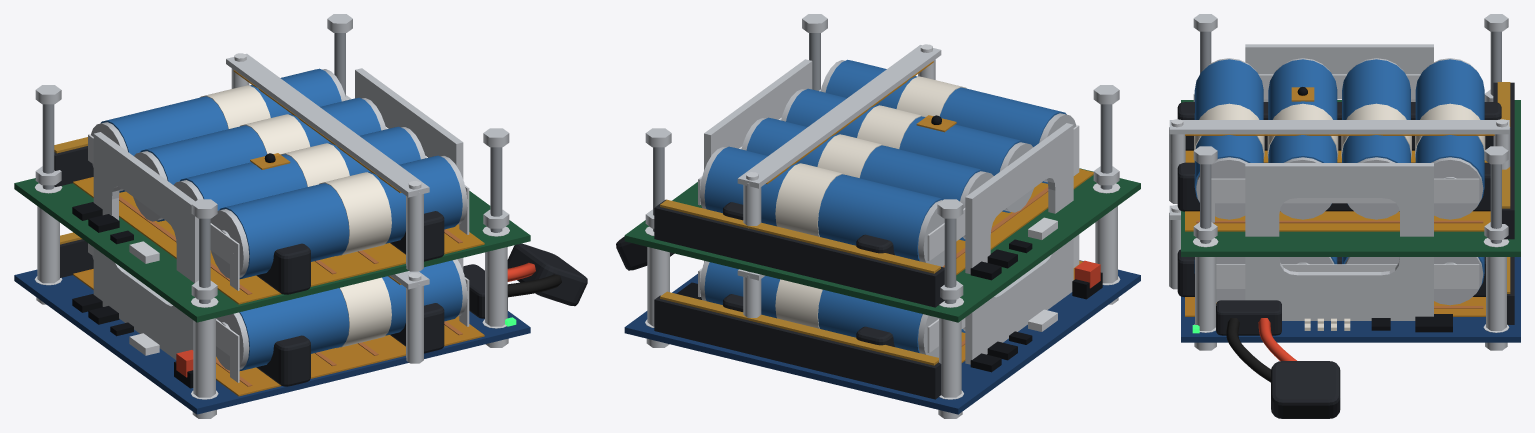
File: battery-large.glb
3 views of the same model, side by side, from view 1: azimuth 30°, elevation 25°; view 2: azimuth 150°, elevation 25°; view 3: azimuth 270°, elevation 25° (orthographic). The views are drawn at different scales.
Visible parts, largest first — view 1: battery-large-cells-2-cells, battery-large-cheek (×2), battery-large-deck-2-pcb, battery-large-deck-1-pcb, battery-large-cells-2-cell-bands, battery-large-cells-1-cells, battery-large-cells-2-heater, battery-large-standoffs-1, battery-large-strap-2, battery-large-cells-1-heater, battery-large-cells-2-cell-caps, battery-large-rods (+17 smaller); view 2: battery-large-cells-2-cells, battery-large-cheek (×2), battery-large-deck-2-header, battery-large-deck-1-header, battery-large-deck-2-pcb, battery-large-deck-1-pcb, battery-large-cells-2-cell-bands, battery-large-cells-1-cells, battery-large-strap-2, battery-large-standoffs-1, battery-large-cells-2-cell-caps, battery-large-rods (+15 smaller); view 3: battery-large-cheek (×2), battery-large-cells-2-cells, battery-large-deck-2-pcb, battery-large-deck-1-pcb, battery-large-strap-2, battery-large-cells-2-cell-caps, battery-large-plug, battery-large-cells-2-heater, battery-large-cells-2-cell-bands, battery-large-cells-2-nickel (×2), battery-large-standoffs-1, battery-large-cells-2-cradle (×2) (+19 smaller).
Part boxes in pixels (bbox=[...]): battery-large-cells-2-cells: bbox=[100, 68, 462, 279]; battery-large-cheek (×2): bbox=[93, 68, 463, 359]; battery-large-deck-2-pcb: bbox=[14, 178, 530, 322]; battery-large-deck-1-pcb: bbox=[14, 269, 530, 414]; battery-large-cells-2-cell-bands: bbox=[200, 85, 391, 256]; battery-large-cells-1-cells: bbox=[239, 260, 462, 370]; battery-large-cells-2-heater: bbox=[73, 177, 484, 304]; battery-large-standoffs-1: bbox=[37, 206, 507, 397]; battery-large-strap-2: bbox=[226, 53, 429, 197]; battery-large-cells-1-heater: bbox=[73, 269, 484, 396]; battery-large-cells-2-cell-caps: bbox=[91, 69, 467, 278]; battery-large-rods: bbox=[42, 33, 502, 303]; battery-large-cells-2-cells: bbox=[704, 59, 1066, 261]; battery-large-cheek (×2): bbox=[704, 59, 1073, 364]; battery-large-deck-2-header: bbox=[654, 199, 944, 307]; battery-large-deck-1-header: bbox=[654, 295, 941, 399]; battery-large-deck-2-pcb: bbox=[624, 168, 1140, 322]; battery-large-deck-1-pcb: bbox=[624, 260, 1140, 414]; battery-large-cells-2-cell-bands: bbox=[775, 76, 966, 236]; battery-large-cells-1-cells: bbox=[704, 262, 965, 353]; battery-large-strap-2: bbox=[737, 45, 941, 188]; battery-large-standoffs-1: bbox=[647, 206, 1117, 397]; battery-large-cells-2-cell-caps: bbox=[700, 60, 1076, 266]; battery-large-rods: bbox=[653, 33, 1112, 303]; battery-large-cheek (×2): bbox=[1245, 44, 1433, 320]; battery-large-cells-2-cells: bbox=[1194, 59, 1484, 205]; battery-large-deck-2-pcb: bbox=[1181, 100, 1520, 256]; battery-large-deck-1-pcb: bbox=[1181, 257, 1520, 342]; battery-large-strap-2: bbox=[1169, 120, 1509, 134]; battery-large-cells-2-cell-caps: bbox=[1196, 58, 1483, 219]; battery-large-plug: bbox=[1271, 361, 1340, 418]; battery-large-cells-2-heater: bbox=[1185, 150, 1490, 231]; battery-large-cells-2-cell-bands: bbox=[1194, 103, 1485, 158]; battery-large-cells-2-nickel (×2): bbox=[1211, 74, 1479, 203]; battery-large-standoffs-1: bbox=[1195, 257, 1506, 330]; battery-large-cells-2-cradle (×2): bbox=[1177, 102, 1501, 211].
Size of the model in its own units: 0.1263 by 0.0626 by 0.0932.
